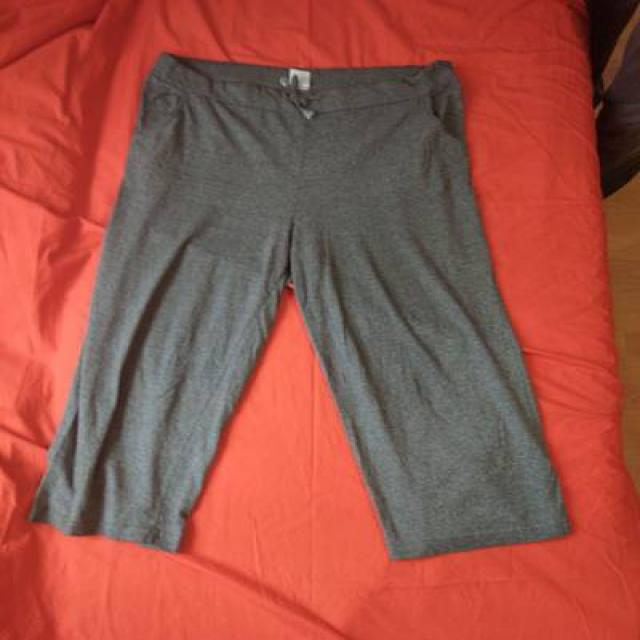Clothes -Biodegradable-: (24, 55, 569, 556)
